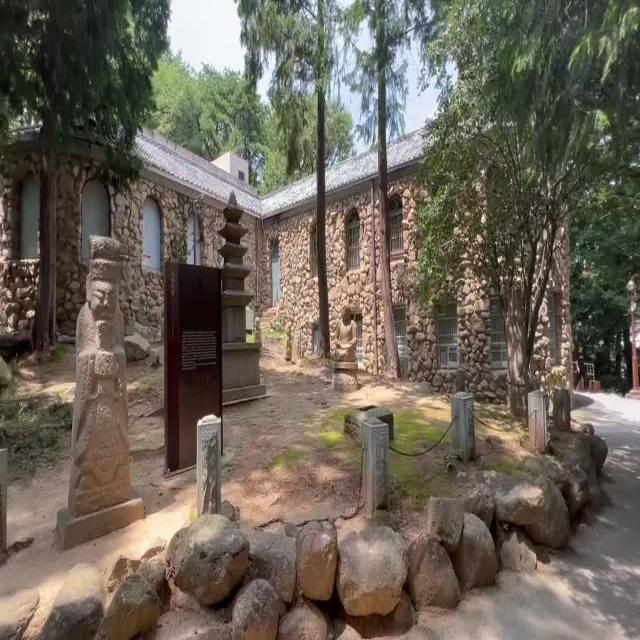building: (138, 138, 321, 374)
